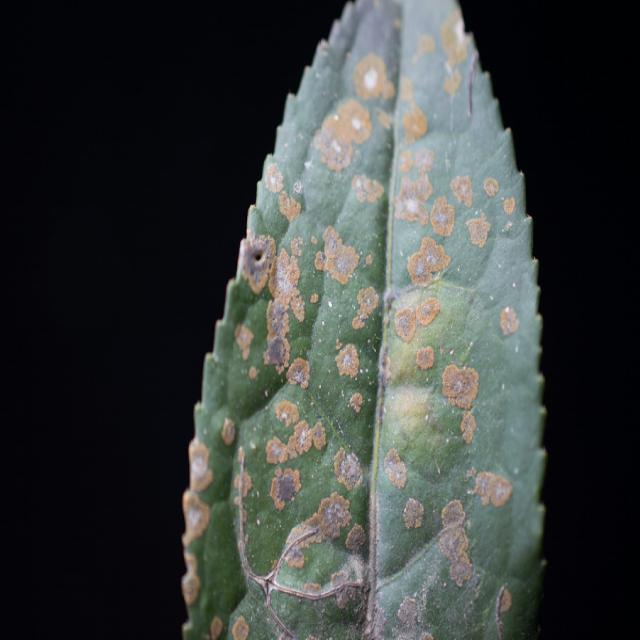Tea red rust: (204, 46, 532, 626)
